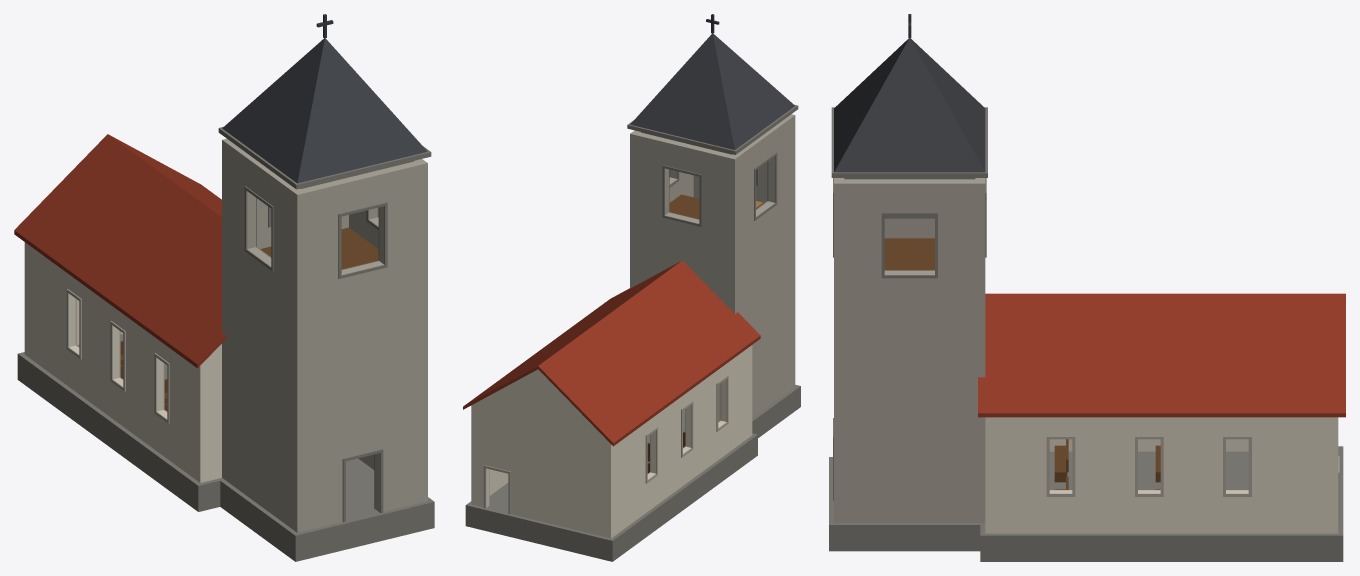
Rendered from chapel.glb.
3 views of the same model, side by side, from view 1: azimuth 30°, elevation 25°; view 2: azimuth 150°, elevation 25°; view 3: azimuth 270°, elevation 25° (orthographic). The views are drawn at different scales.
Parts seen in each view (by area): view 1: chapel; view 2: chapel; view 3: chapel.
Boxes of the visible parts, left/top/right/bottom form: chapel: left=14, top=14, right=434, bottom=561; chapel: left=463, top=14, right=800, bottom=561; chapel: left=829, top=14, right=1345, bottom=561.
Bounding box in the file's own units: 8.6 × 22 × 20.5.
